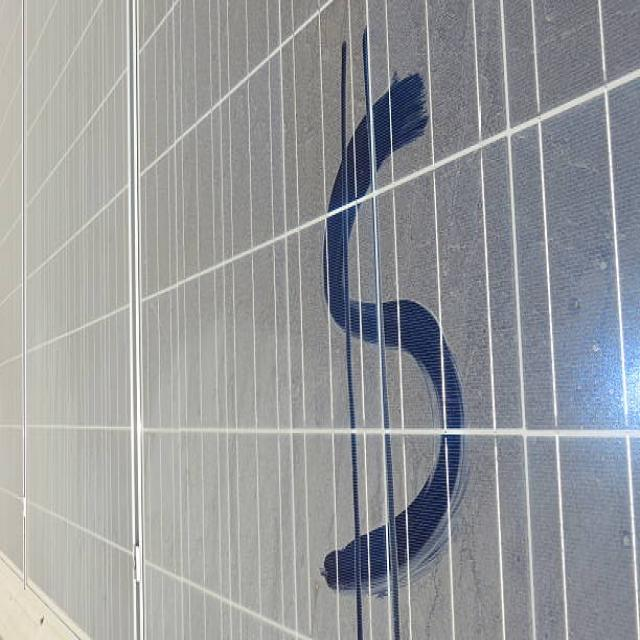faulty: (125, 0, 640, 640), (18, 5, 137, 624)
